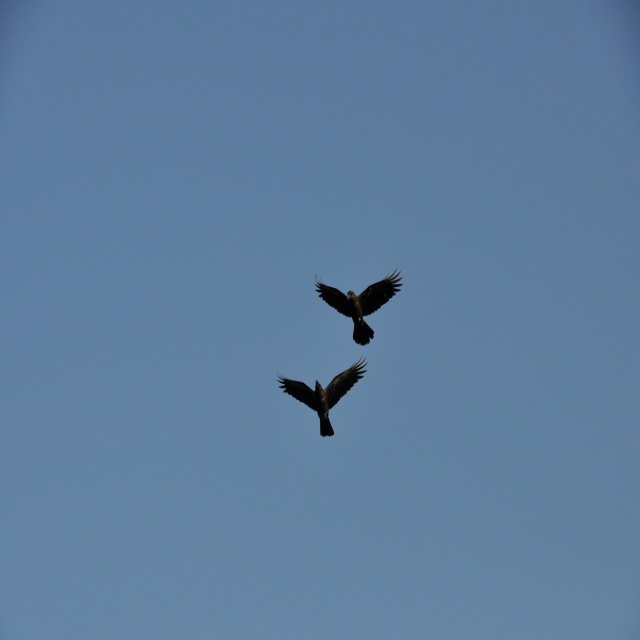Eagle: (272, 356, 366, 436), (315, 273, 406, 345)
